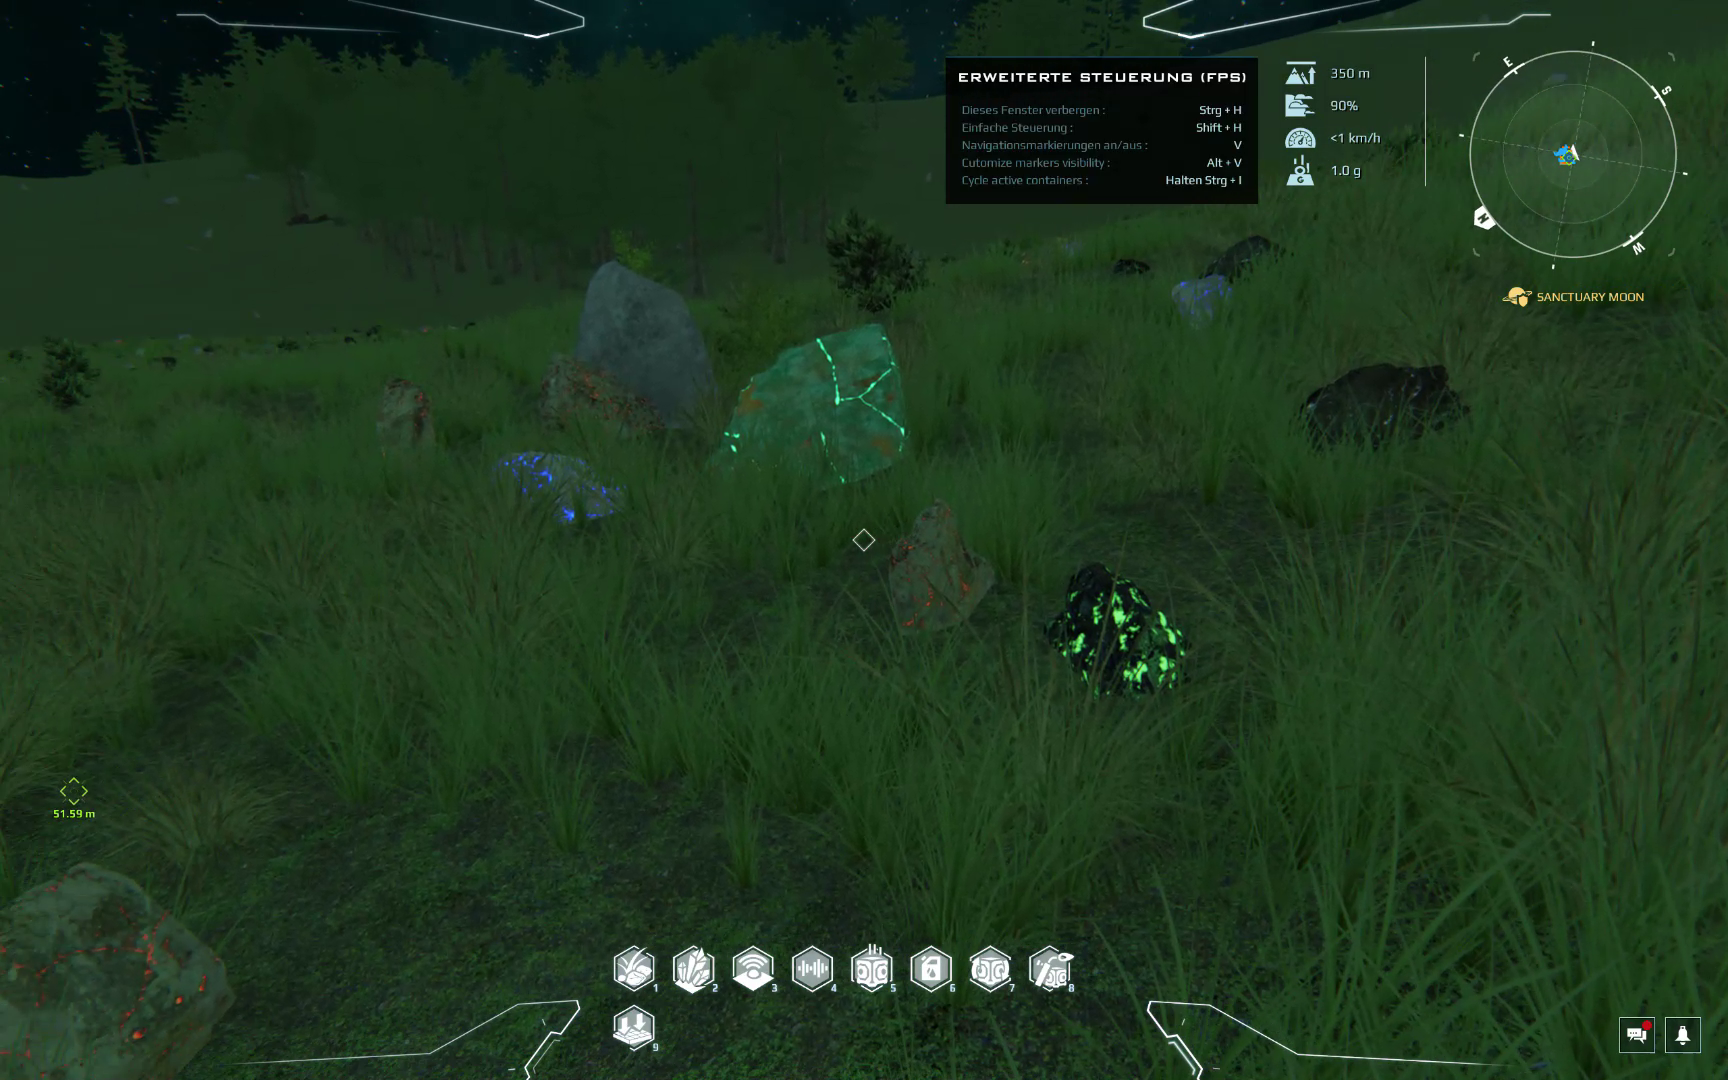Ore: (1, 859, 239, 1080), (700, 322, 914, 494), (1041, 556, 1191, 697), (886, 501, 996, 645), (1303, 363, 1466, 448), (495, 448, 633, 533), (536, 353, 666, 443), (373, 376, 439, 455), (1201, 233, 1290, 279), (1171, 276, 1234, 319), (1111, 258, 1153, 275)
